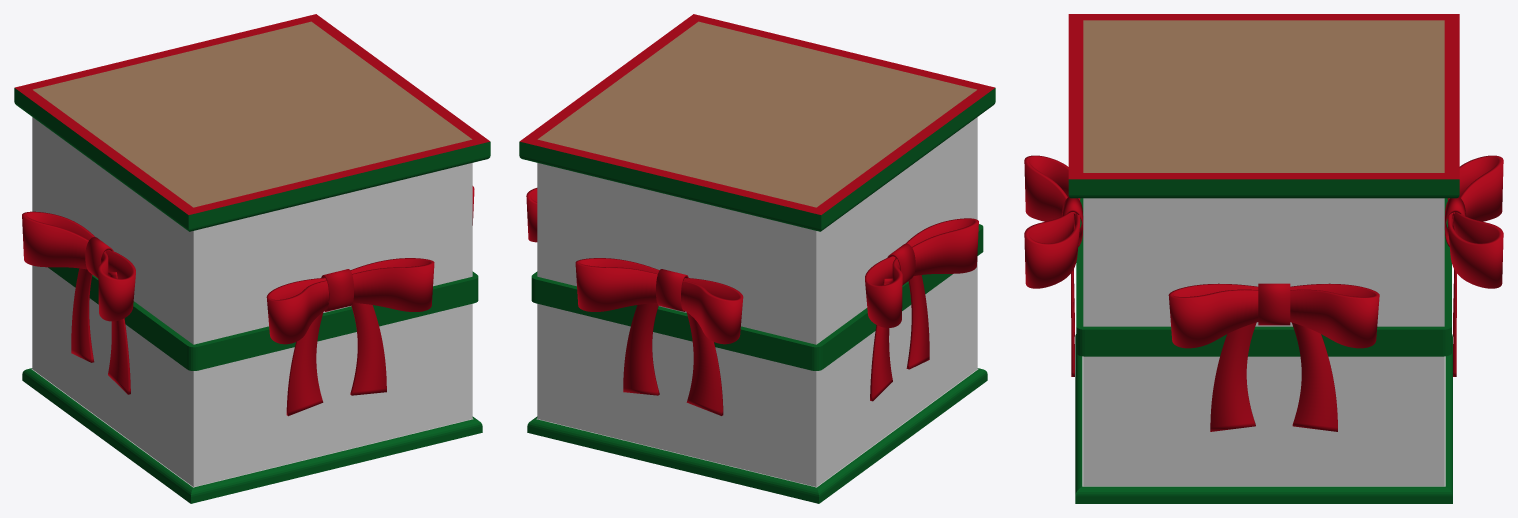
File: BowCounter.fbx
3 views of the same model, side by side, from view 1: azimuth 30°, elevation 25°; view 2: azimuth 150°, elevation 25°; view 3: azimuth 270°, elevation 25° (orthographic). The views are drawn at different scales.
Visible parts, largest first — view 1: Bow Counter, Bow.009, Bow.012; view 2: Bow Counter, Bow.010, Bow.012, Bow.011; view 3: Bow Counter, Bow.011, Bow.009, Bow.010.
Part boxes in pixels (box(x1,y1,x2,y2)): Bow Counter: box(14, 14, 490, 503); Bow.009: box(266, 258, 434, 416); Bow.012: box(22, 211, 135, 394); Bow Counter: box(519, 14, 995, 503); Bow.010: box(575, 258, 743, 415); Bow.012: box(865, 218, 978, 401); Bow.011: box(526, 188, 537, 242); Bow Counter: box(1068, 14, 1459, 503); Bow.011: box(1168, 283, 1379, 431); Bow.009: box(1024, 155, 1083, 376); Bow.010: box(1444, 155, 1503, 376).
Size of the model in its own units: 265 by 200 by 265.
